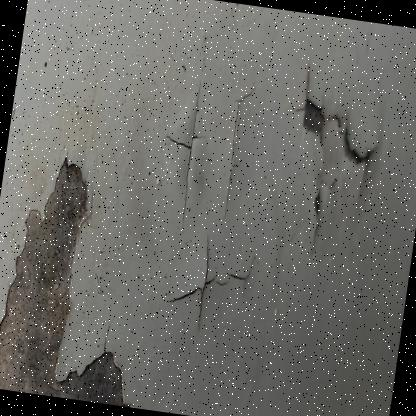Crack: (127, 41, 285, 393), (0, 125, 191, 410), (266, 37, 411, 282)
